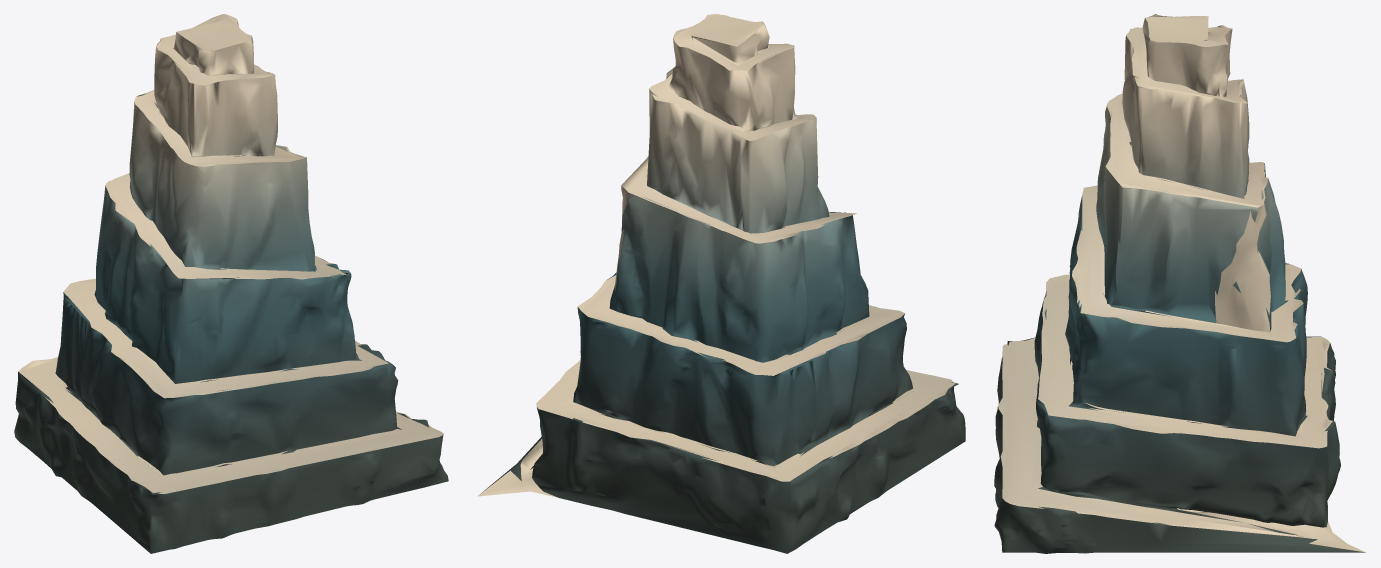
Rendered from pillar.glb.
3 views of the same model, side by side, from view 1: azimuth 30°, elevation 25°; view 2: azimuth 150°, elevation 25°; view 3: azimuth 270°, elevation 25° (orthographic). The views are drawn at different scales.
Visible parts, largest first — view 1: Pillar; view 2: Pillar; view 3: Pillar.
Part boxes in pixels (x1,y1,x2,y2): Pillar: (14, 14, 448, 553); Pillar: (477, 14, 965, 553); Pillar: (994, 14, 1365, 553).
Size of what is drawn, in the model's own units: 49.75 by 65.14 by 49.04.
1 material, 1 textured.
